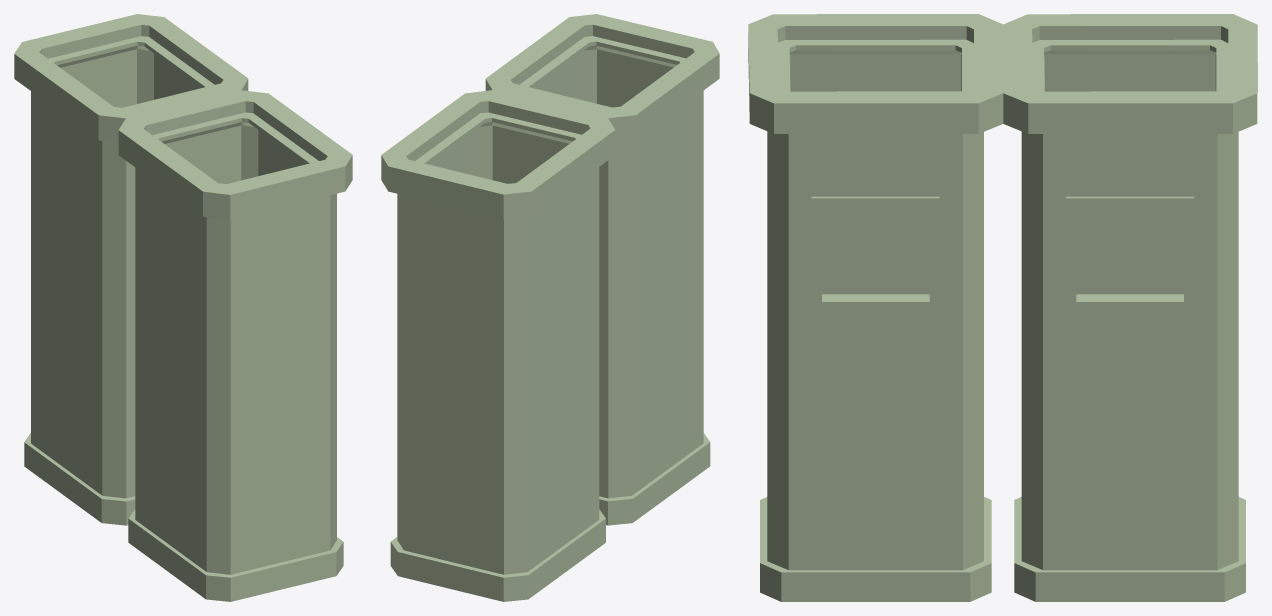
Rendered from Dustbin.fbx.
The picture shows the model from 3 angles, left to right: view 1: azimuth 30°, elevation 25°; view 2: azimuth 150°, elevation 25°; view 3: azimuth 270°, elevation 25°; orthographic projection. The views are drawn at different scales.
Parts seen in each view (by area): view 1: Dustbin__1_; view 2: Dustbin__1_; view 3: Dustbin__1_.
Boxes of the visible parts, x1,y1,x2,y2 form: Dustbin__1_: (14,14,352,601); Dustbin__1_: (381,14,719,601); Dustbin__1_: (748,14,1257,601).
Bounding box in the file's own units: 35.19 × 92.07 × 84.63.
